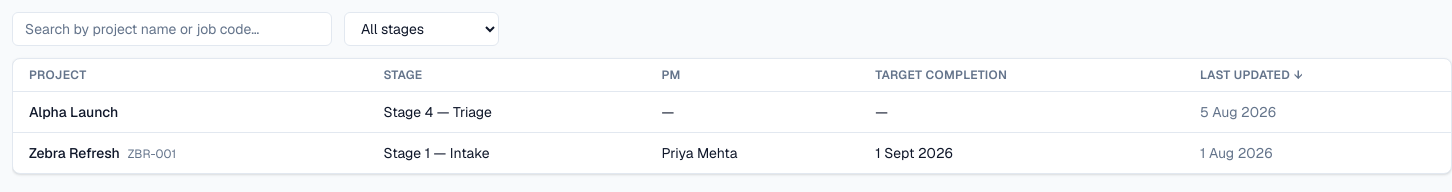
it: WorkstreamProjectsTable › filters by search term across name and job code
Type "ZBR" into the search field named "Search projects" at {"x": 172, "y": 29}, box [12, 12, 332, 46]
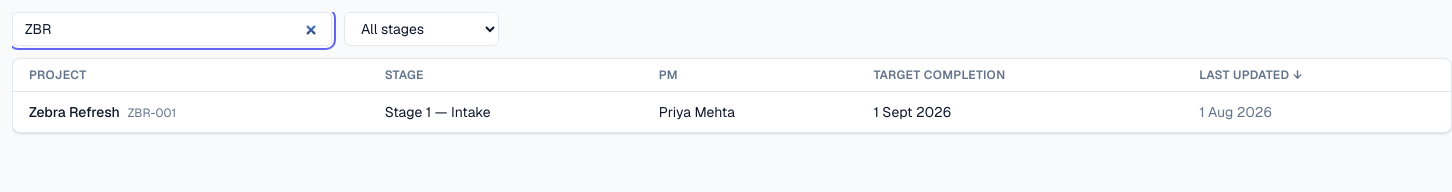
Check: the link "Zebra Refresh" is shown, box [29, 103, 120, 121]
Check: the link "Alpha Launch" is gone
